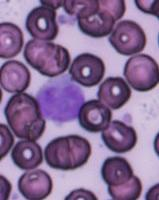L: (35, 75, 86, 123)
